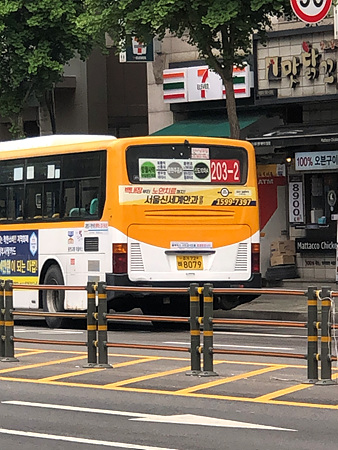bnum: (209, 160, 240, 180)
